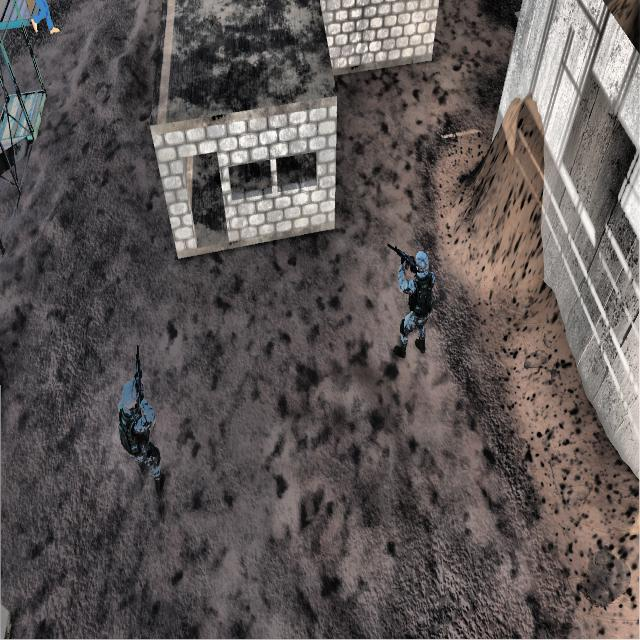bad: (96, 346, 173, 514), (388, 226, 439, 372)
good: (27, 0, 63, 48)
